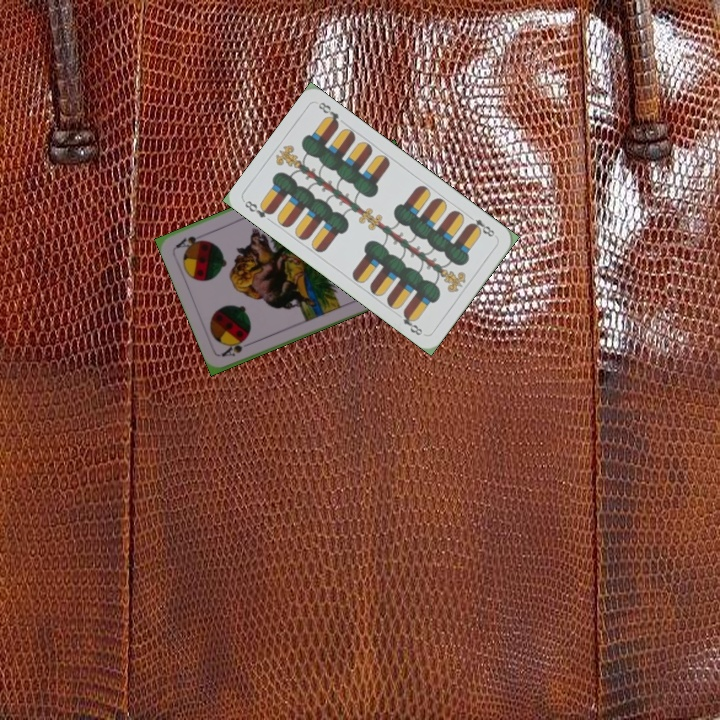E8: (464, 211, 499, 240), (240, 196, 276, 220)
SA: (218, 335, 257, 359)
